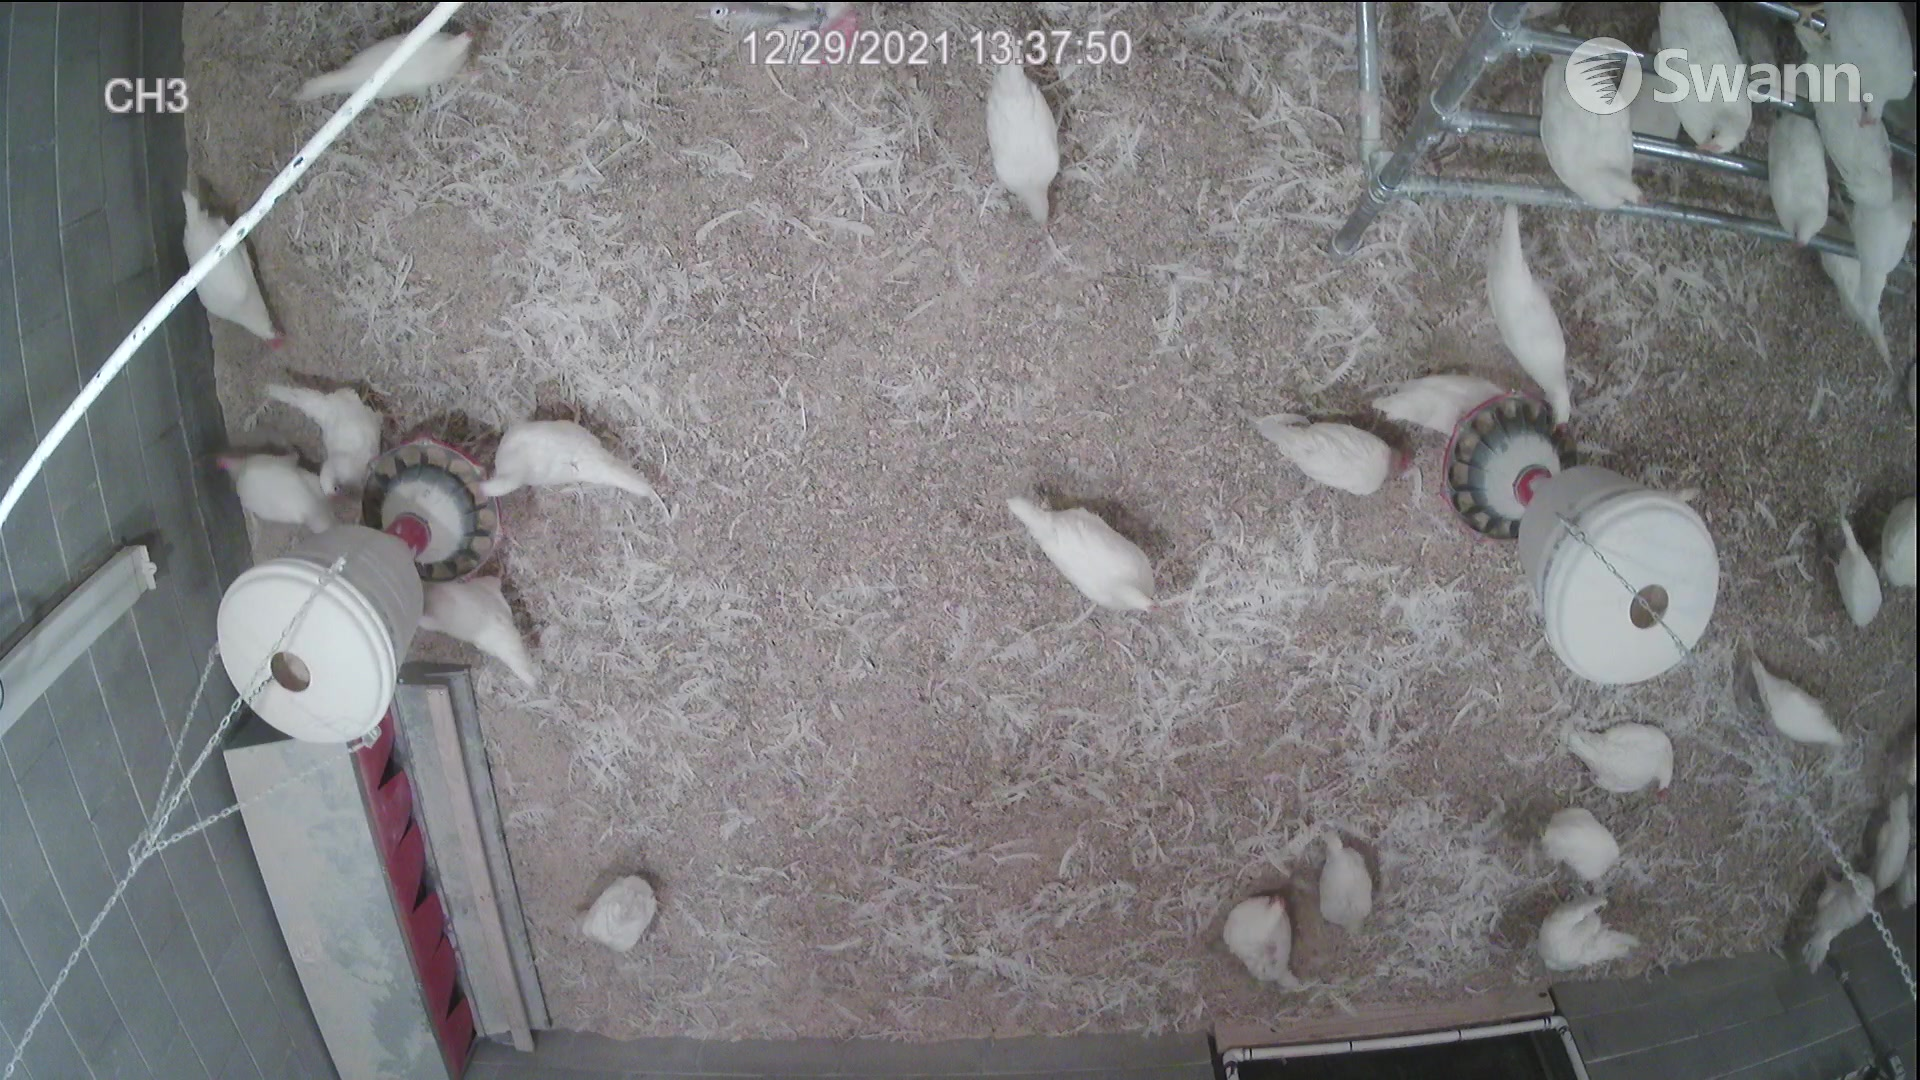Dust Bathing: (1312, 814, 1375, 948)
Feeding: (1481, 218, 1607, 434), (468, 405, 658, 530)
Foraging: (957, 44, 1077, 225), (1266, 407, 1415, 509), (1755, 662, 1859, 765), (579, 866, 669, 960), (1833, 512, 1879, 633)
Perching: (1535, 32, 1648, 214), (1647, 0, 1749, 167), (1833, 164, 1905, 324), (1753, 103, 1832, 228), (1836, 3, 1902, 138)
Preening: (1524, 895, 1640, 982)
